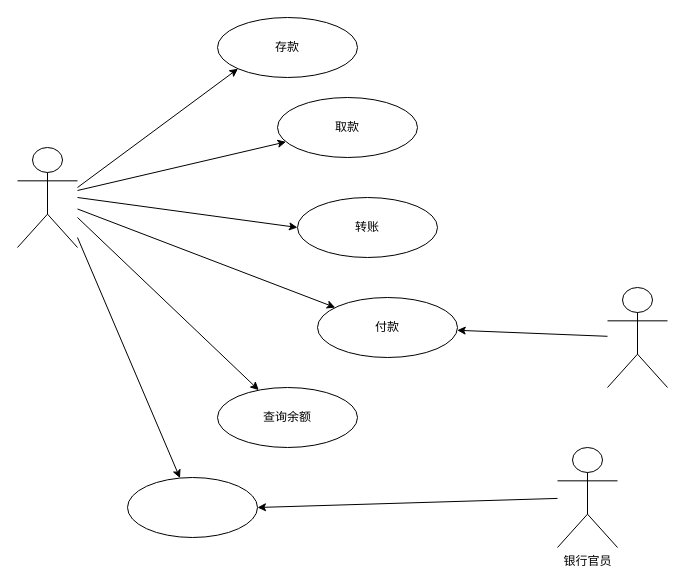
Image size: 685x586. Some labels were removed from this diagram. The shapes that lost their labels are listed below. From the top down, each one's centre as x and y in pixels, then its label:
[47,197]: 客户
[637,337]: 信用系统
[192,507]: 改变PIN
